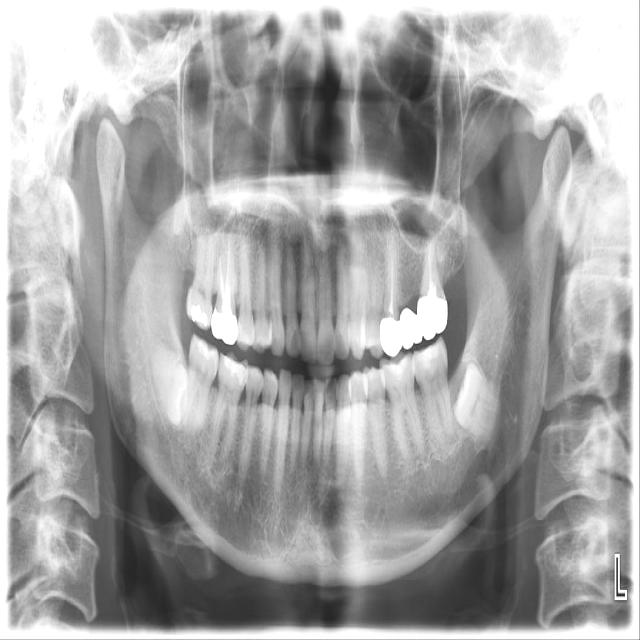Crown: (380, 297, 448, 357), (211, 305, 238, 346)
Filling: (219, 354, 248, 387), (416, 342, 445, 375), (387, 356, 412, 380), (194, 337, 216, 361), (188, 304, 208, 327)
Root Canal Treatment: (428, 244, 434, 284), (226, 232, 230, 288), (219, 264, 223, 304), (390, 239, 392, 281), (389, 281, 390, 310)
impacted tooth: (139, 319, 187, 430), (453, 361, 512, 440)
